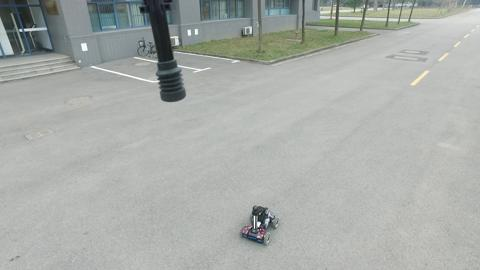chariot: (225, 198, 284, 249)
